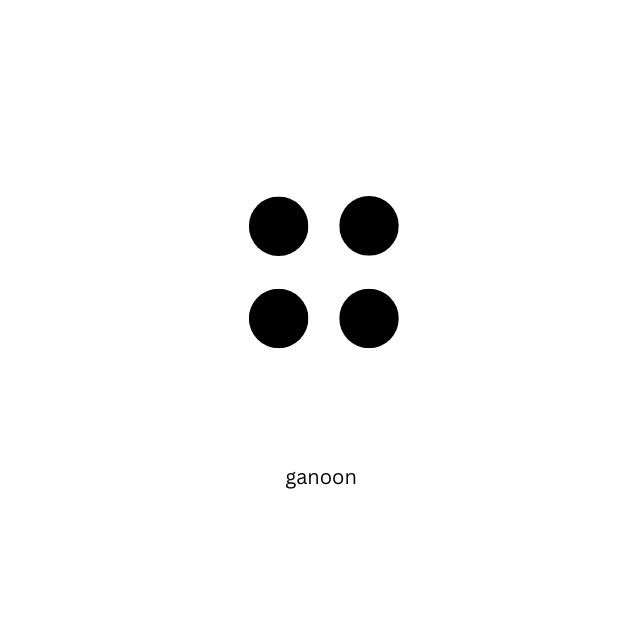one_cell_alphabet_ganoon: (248, 195, 400, 452)
